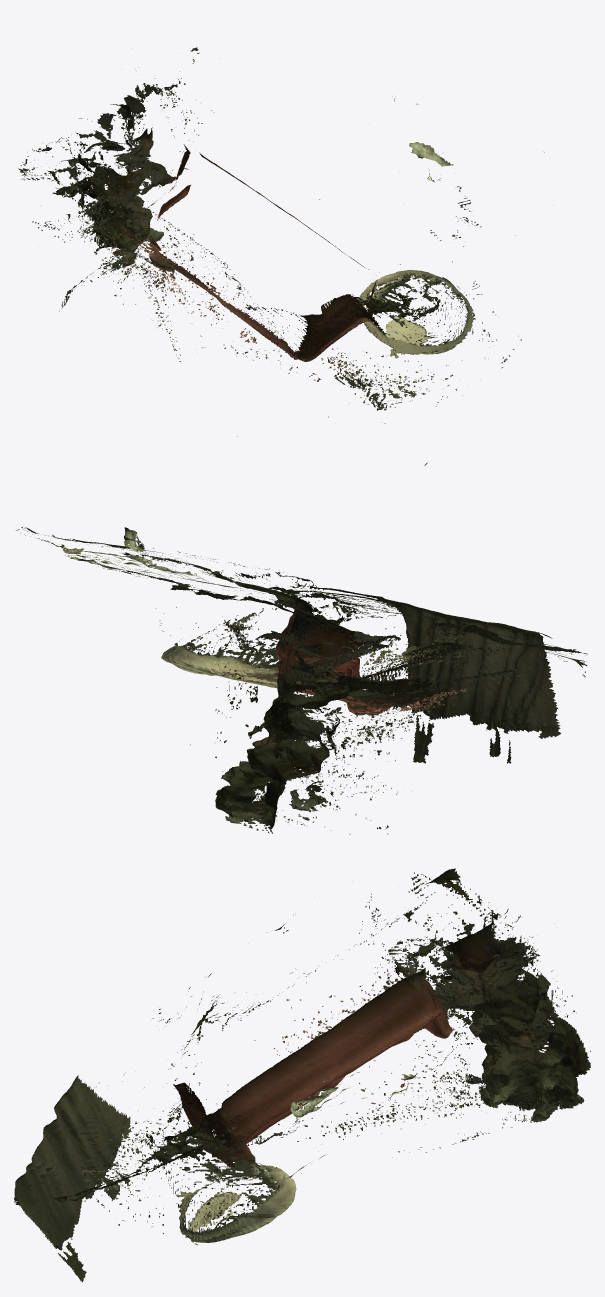
File: eth3d_plant_scene.glb
The picture shows the model from 3 angles, top to bottom: view 1: azimuth 30°, elevation 25°; view 2: azimuth 150°, elevation 25°; view 3: azimuth 270°, elevation 25°; orthographic projection. The views are drawn at different scales.
Parts seen in each view (by area): view 1: world; view 2: world; view 3: world.
Part boxes in pixels (x1,y1,x2,y2): world: (18,47,544,465); world: (16,527,587,834); world: (14,868,590,1282).
Bounding box in the file's own units: 5.58 × 3.37 × 4.98.
